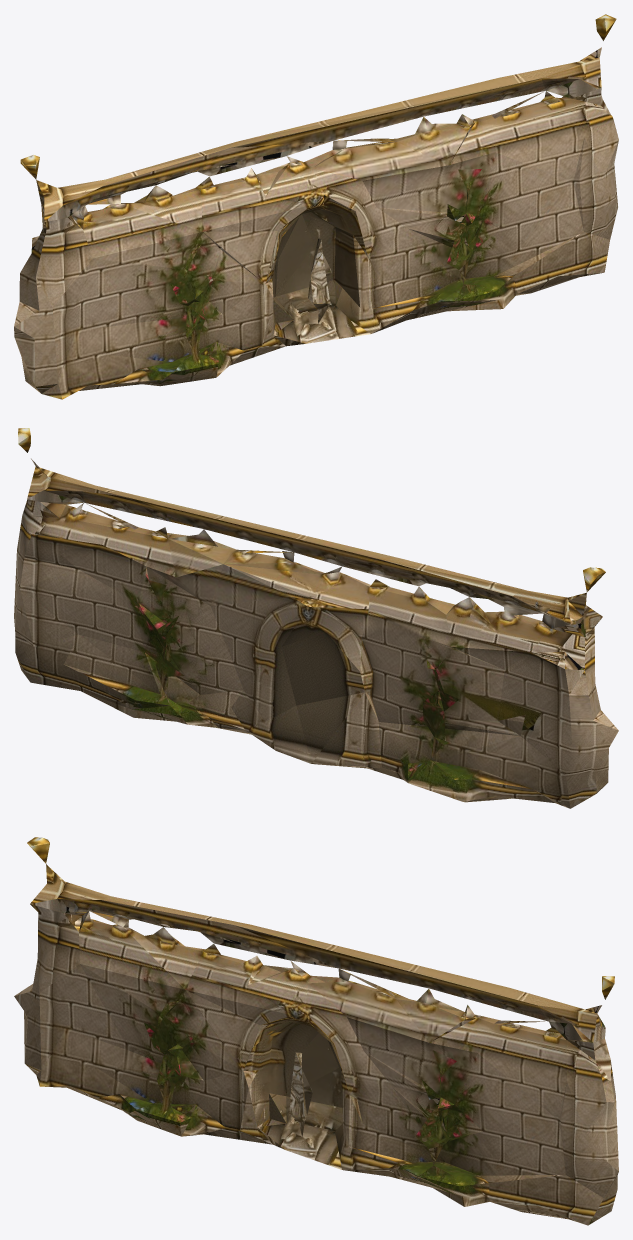
The model's file is royal_terrace_wall.glb.
3 views of the same model, one above another, from view 1: azimuth 30°, elevation 25°; view 2: azimuth 150°, elevation 25°; view 3: azimuth 330°, elevation 25° (orthographic).
Visible parts, largest first — view 1: output_unwrapped; view 2: output_unwrapped; view 3: output_unwrapped.
Part boxes in pixels (x1,y1,x2,y2): output_unwrapped: [14, 14, 618, 399]; output_unwrapped: [14, 428, 618, 808]; output_unwrapped: [14, 837, 618, 1225].
Size of the model in its own units: 1.84 by 0.7319 by 0.252.
1 material, 1 textured.
